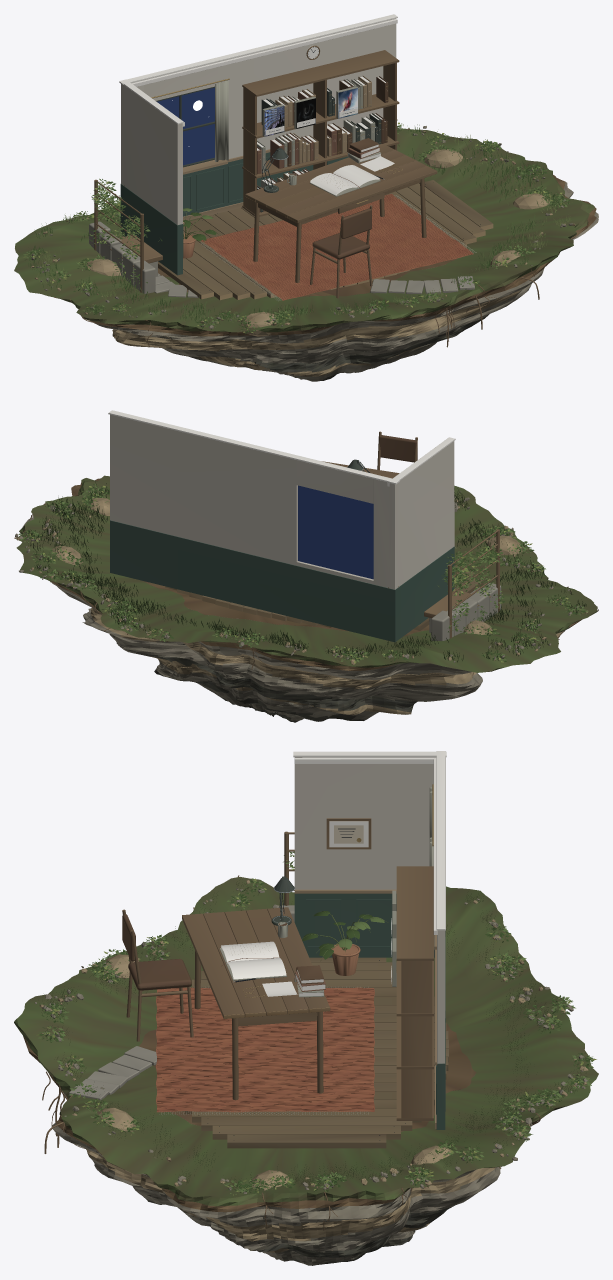
Rendered from orbit-writing-299788d7.glb.
3 views of the same model, one above another, from view 1: azimuth 30°, elevation 25°; view 2: azimuth 150°, elevation 25°; view 3: azimuth 270°, elevation 25° (orthographic). The views are drawn at different scales.
Parts seen in each view (by area): view 1: Writing island · browser materials; view 2: Writing island · browser materials; view 3: Writing island · browser materials.
Part boxes in pixels (x1,y1,x2,y2): Writing island · browser materials: (14, 14, 598, 381); Writing island · browser materials: (14, 410, 598, 722); Writing island · browser materials: (14, 751, 598, 1265).
Bounding box in the file's own units: 11.7 × 6.39 × 8.62.
34 materials, 3 textured.
